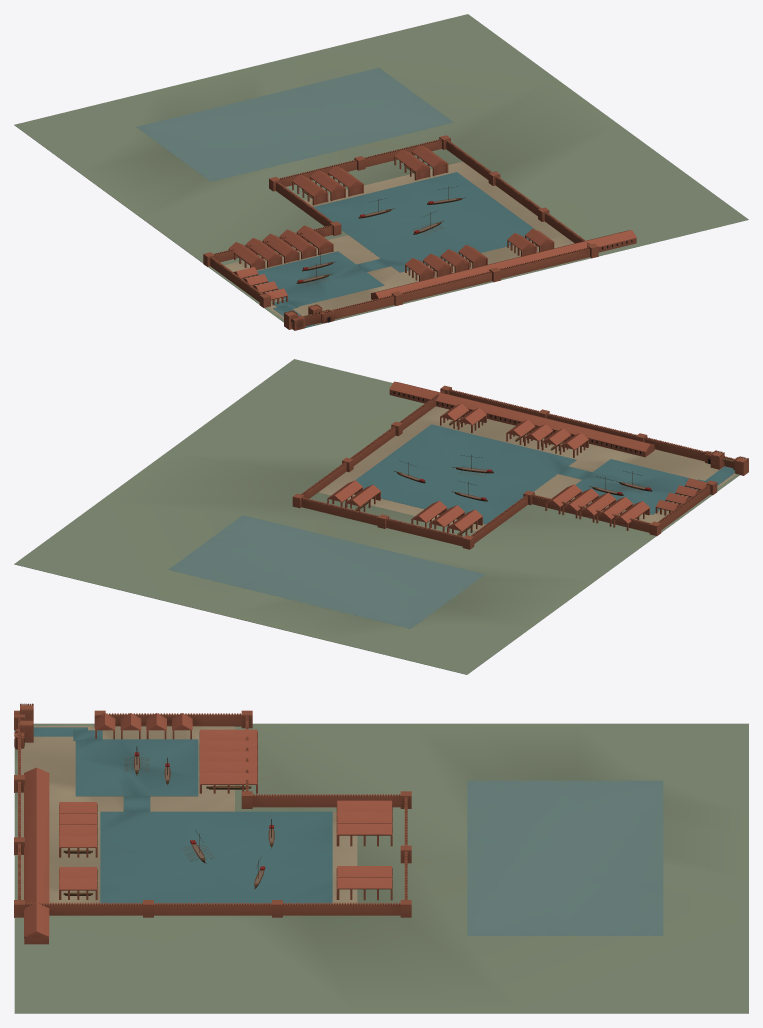
File: arsenale-1400.glb
3 views of the same model, one above another, from view 1: azimuth 30°, elevation 25°; view 2: azimuth 150°, elevation 25°; view 3: azimuth 270°, elevation 25° (orthographic). The views are drawn at different scales.
Parts seen in each view (by area): view 1: p0_ground, p2_slipways, p1_gates, p3_galleys; view 2: p0_ground, p2_slipways, p1_gates, p3_galleys; view 3: p0_ground, p2_slipways, p1_gates, p3_galleys.
Part boxes in pixels (bbox=[...]): p0_ground: bbox=[14, 14, 748, 327]; p2_slipways: bbox=[228, 145, 636, 305]; p1_gates: bbox=[203, 135, 598, 330]; p3_galleys: bbox=[296, 186, 465, 285]; p0_ground: bbox=[14, 359, 739, 674]; p2_slipways: bbox=[327, 381, 707, 536]; p1_gates: bbox=[292, 385, 748, 549]; p3_galleys: bbox=[394, 455, 652, 501]; p0_ground: bbox=[14, 723, 748, 1013]; p2_slipways: bbox=[24, 713, 392, 944]; p1_gates: bbox=[14, 703, 411, 917]; p3_galleys: bbox=[124, 746, 274, 889].
Bounding box in the file's own units: 565 × 19.79 × 600.
